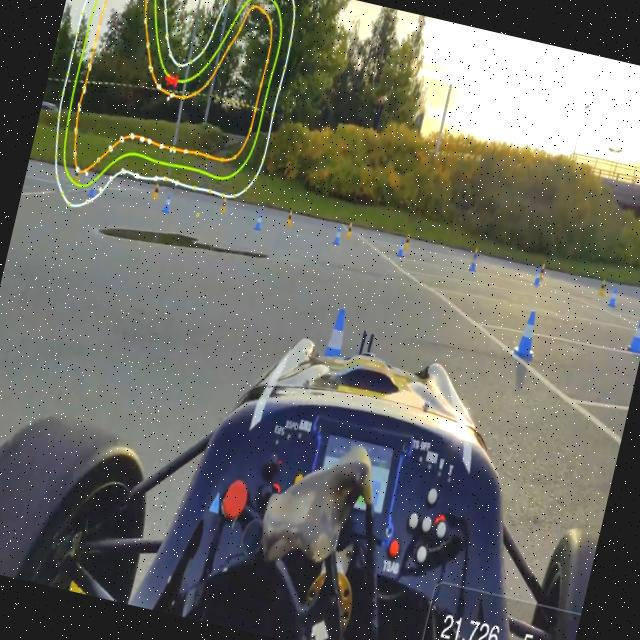blue_cone: (510, 304, 548, 365), (321, 303, 357, 359), (623, 309, 640, 357), (160, 192, 174, 216), (331, 223, 344, 247), (252, 210, 266, 232), (606, 286, 620, 308), (395, 238, 406, 259), (468, 253, 478, 273), (532, 266, 542, 286), (87, 185, 96, 198)
yellow_cone: (596, 277, 608, 297), (344, 221, 356, 240), (151, 182, 161, 199), (219, 196, 229, 213), (402, 234, 412, 251), (285, 209, 294, 226), (538, 264, 546, 281), (72, 170, 80, 182), (473, 247, 478, 253)
